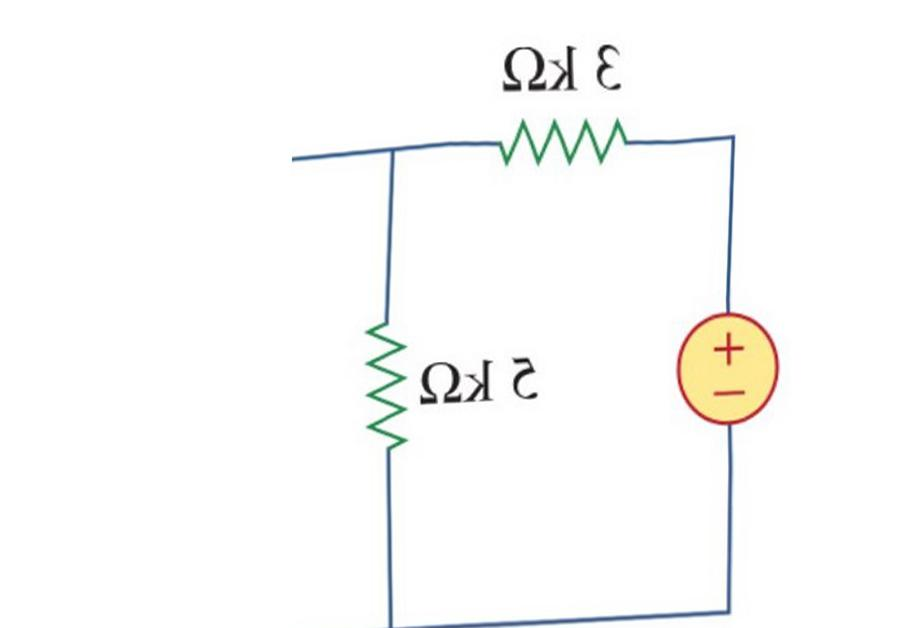Battery: (651, 294, 831, 468)
